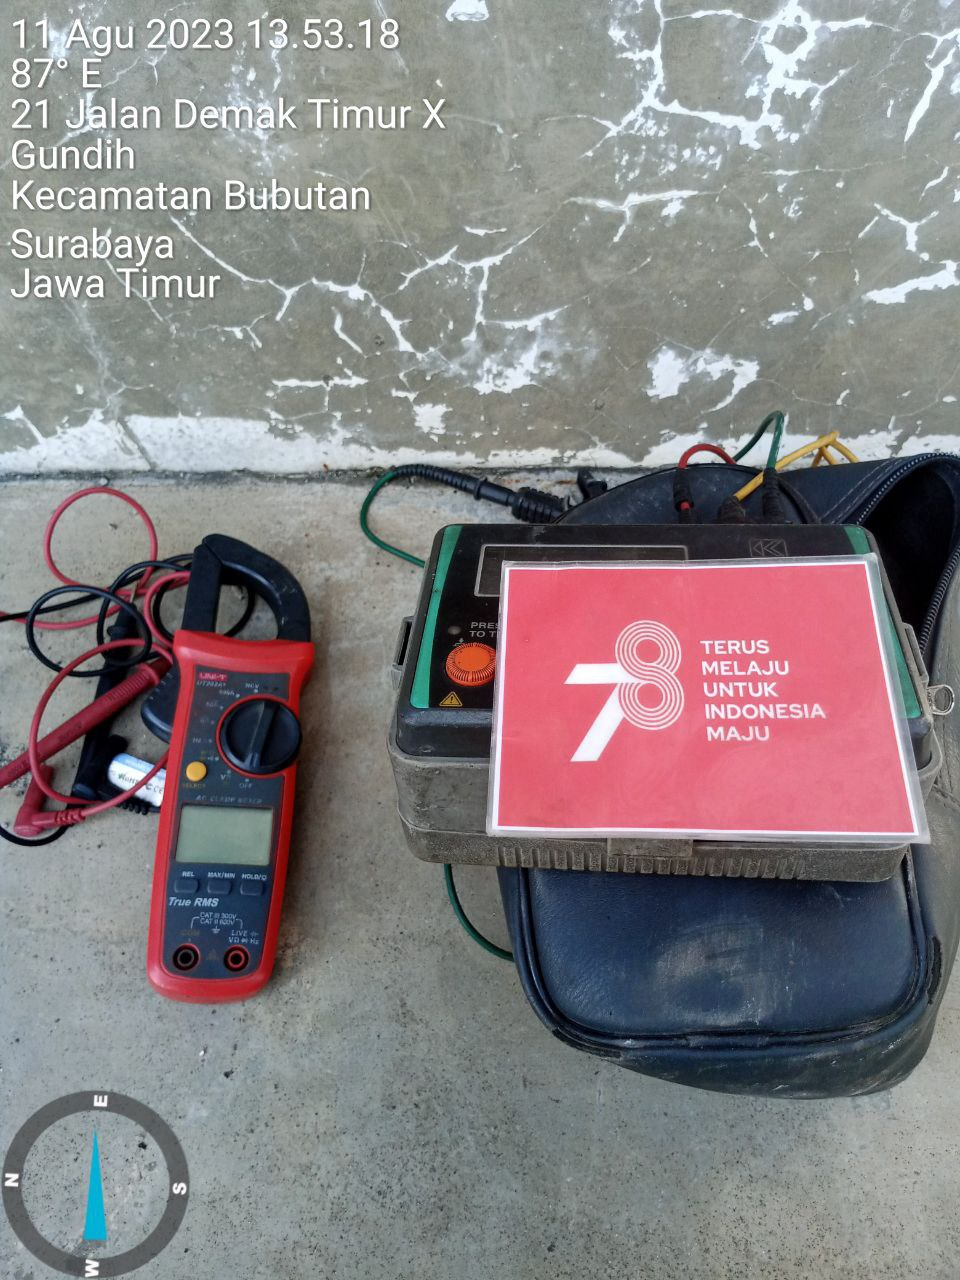TANG_AMPERE: (135, 525, 318, 1004)
